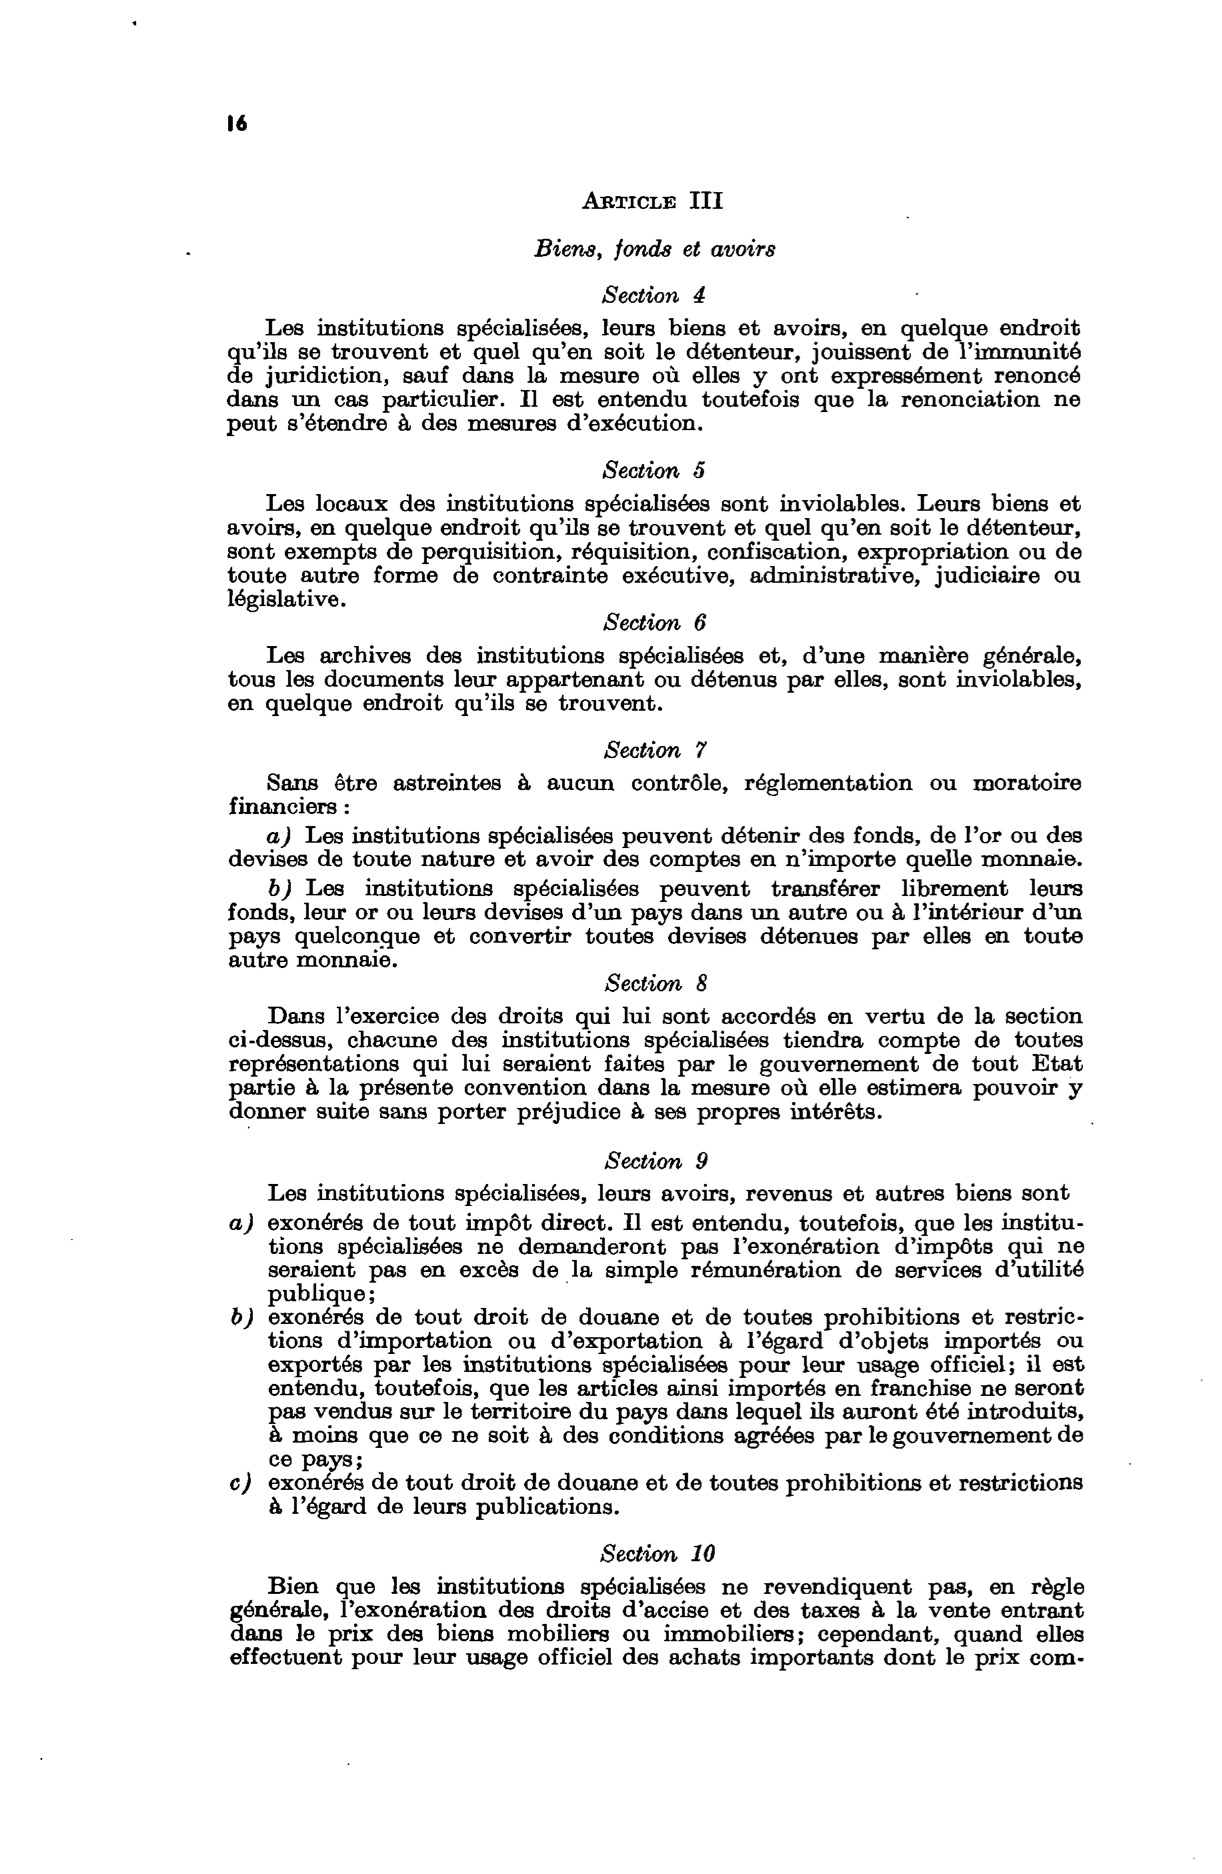MainZone-Head: (527, 230, 783, 270), (573, 179, 733, 222), (594, 276, 716, 314), (599, 1142, 719, 1178), (595, 1536, 722, 1570), (599, 965, 718, 1001), (596, 452, 714, 488), (598, 604, 716, 639), (597, 733, 715, 767)
MainZone-ListItem: (219, 1302, 1095, 1468), (219, 1204, 1092, 1304), (218, 873, 1090, 972), (219, 820, 1086, 873), (221, 1491, 1085, 1522), (220, 1469, 1064, 1495)
MainZone-P: (218, 999, 1092, 1130), (217, 313, 1089, 441), (217, 485, 1089, 611), (218, 1571, 1094, 1681), (214, 640, 1088, 722), (218, 767, 1089, 821), (218, 1177, 1092, 1209)
TitlePageZone: (220, 103, 256, 143)
